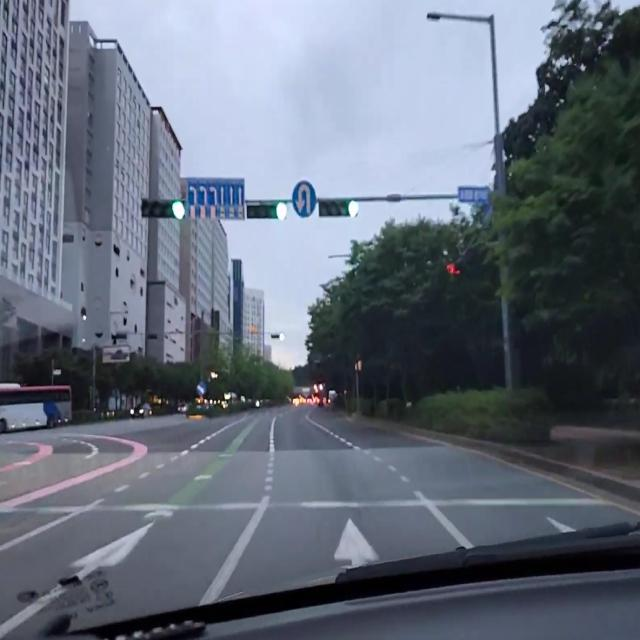Green Light: (170, 198, 186, 222), (274, 200, 288, 221), (346, 199, 359, 218)
